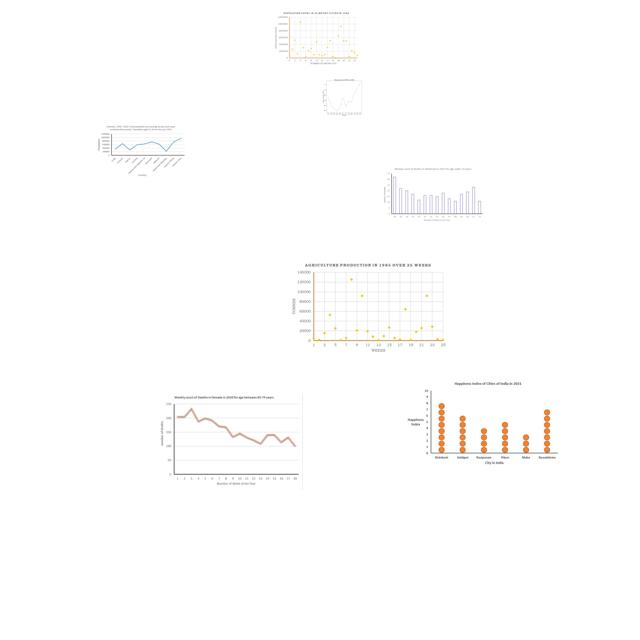Graph: (291, 262, 448, 353), (157, 393, 303, 490), (406, 380, 559, 467), (381, 166, 485, 224), (95, 124, 186, 178), (274, 11, 359, 65), (314, 76, 373, 117)
